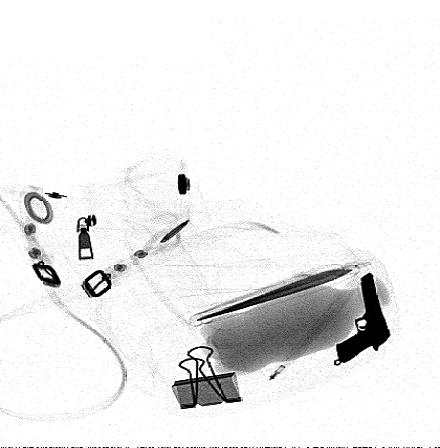Gun: (336, 272, 391, 363)
